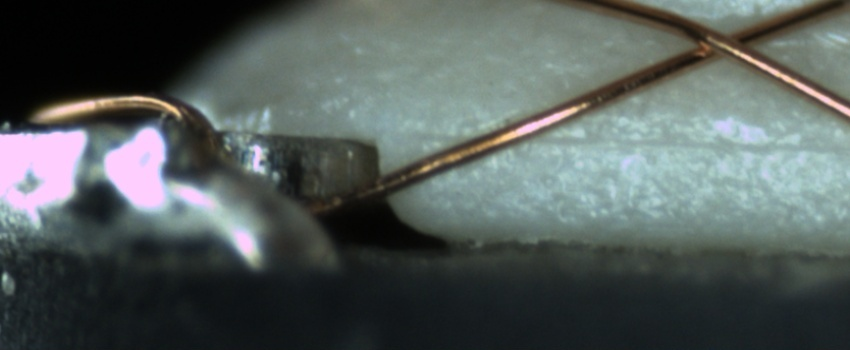CL: (673, 13, 776, 72)
DL: (428, 105, 850, 178)
TE: (24, 86, 230, 149)
